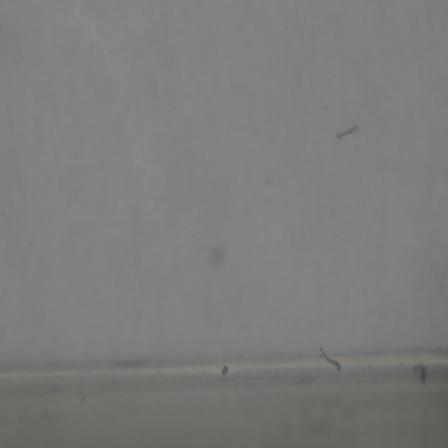Jentik-Nyamuk: (330, 115, 361, 144), (318, 345, 342, 374)
